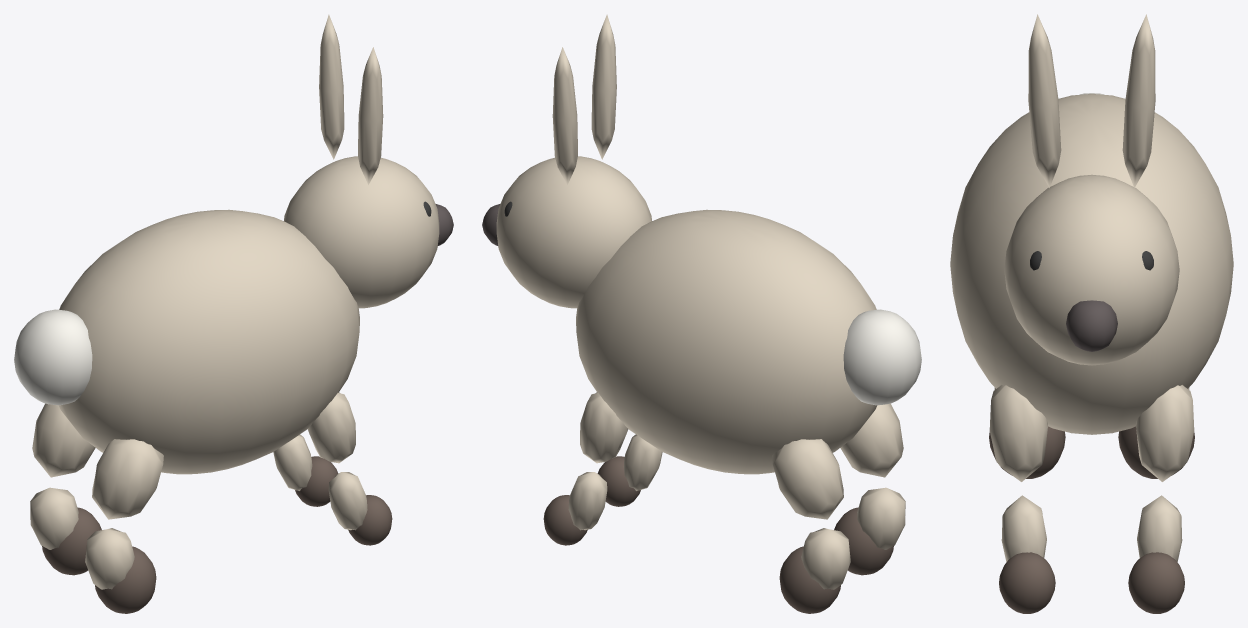
Rendered from rabbit.glb.
3 renders of one model, left to right at view 1: azimuth 30°, elevation 25°; view 2: azimuth 150°, elevation 25°; view 3: azimuth 270°, elevation 25°, orthographic. The views are drawn at different scales.
Parts seen in each view (by area): view 1: org_rabbit; view 2: org_rabbit; view 3: org_rabbit.
Part boxes in pixels (x1=…): org_rabbit: x1=14, y1=14, x2=453, y2=613; org_rabbit: x1=482, y1=14, x2=921, y2=613; org_rabbit: x1=950, y1=14, x2=1233, y2=613.
Bounding box in the file's own units: 0.4413 × 0.4881 × 0.2048.
